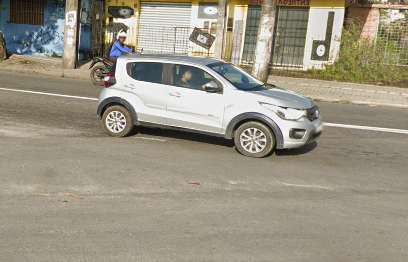car: (94, 47, 328, 163)
